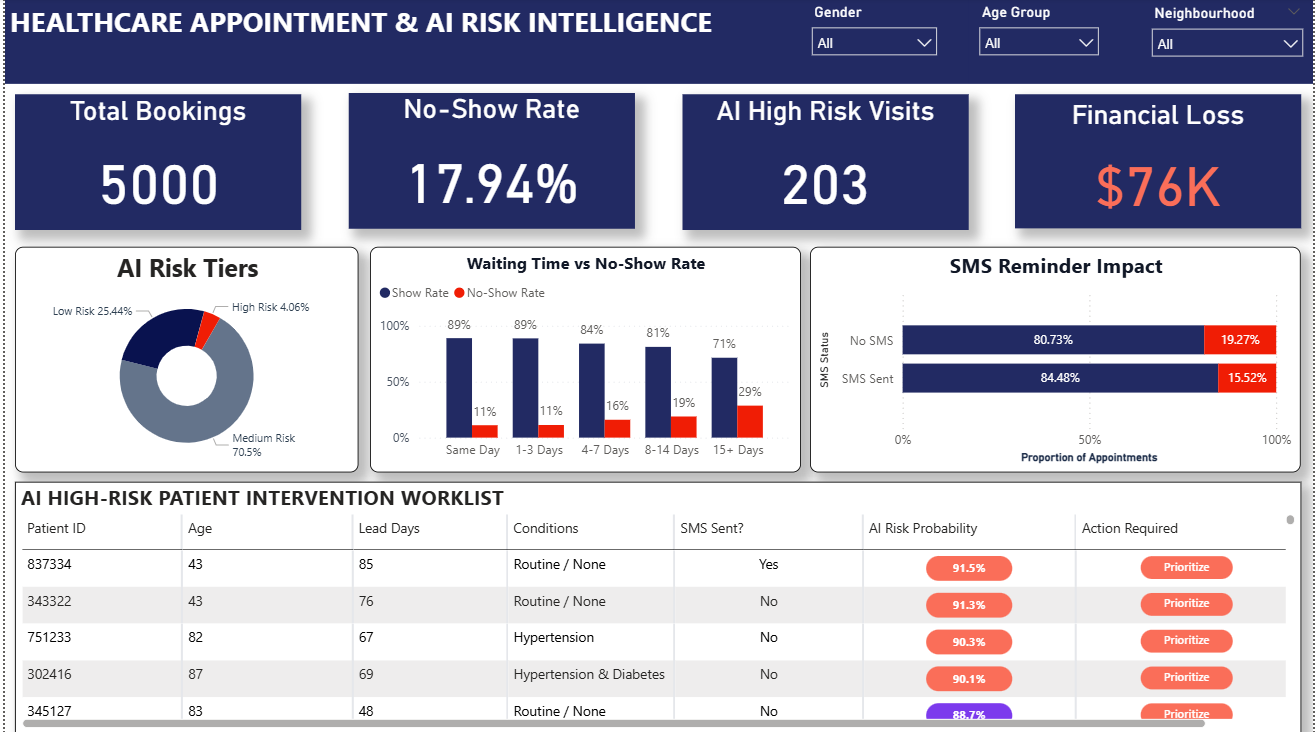

The page's visual inventory and layout, read from the dashboard file:
{"tool":"powerbi","page":{"name":"Page 1","canvas":[1280,720],"ordinal":0},"visuals":[{"type":"card","title":"Total Bookings","fields":{"Values":["appointments_with_ai_predictions.Total Appointments"]},"box":[10,94.3,280,132.9],"z":0},{"type":"card","title":"No-Show Rate","fields":{"Values":["appointments_with_ai_predictions.No-Show Rate"]},"box":[336.2,93.3,279.9,133.1],"z":1000},{"type":"card","title":"AI High Risk Visits","fields":{"Values":["appointments_with_ai_predictions.High Risk Visits"]},"box":[662.4,94.3,280,132.9],"z":2000},{"type":"card","title":"Financial Loss","fields":{"Values":["appointments_with_ai_predictions.Financial Loss"]},"box":[988.6,94.3,280,131.4],"z":3000},{"type":"donutChart","title":"AI Risk Tiers","fields":{"Category":["appointments_with_ai_predictions.Corrected_Risk_Tier"],"Y":["appointments_with_ai_predictions.Total Appointments"]},"box":[9.6,242.9,336.2,220.9],"z":4000},{"type":"clusteredColumnChart","title":"Waiting Time vs No-Show Rate","fields":{"Category":["appointments_with_ai_predictions.Waiting Time Bucket"],"Y":["appointments_with_ai_predictions.Show Rate","appointments_with_ai_predictions.No-Show Rate"]},"box":[356.8,242.9,421.3,220.9],"z":5000},{"type":"hundredPercentStackedBarChart","title":"SMS Reminder Impact","fields":{"Category":["appointments_with_ai_predictions.SMS_Label"],"Y":["appointments_with_ai_predictions.Total Appointments"],"Series":["appointments_with_ai_predictions.no_show"]},"box":[787.7,242.9,480.3,220.9],"z":6000},{"type":"tableEx","title":"AI HIGH-RISK PATIENT INTERVENTION WORKLIST","fields":{"Values":["appointments_with_ai_predictions.patient_id","appointments_with_ai_predictions.age","appointments_with_ai_predictions.lead_days","appointments_with_ai_predictions.Conditions","appointments_with_ai_predictions.SMS Sent?","appointments_with_ai_predictions.AI Risk Badge","appointments_with_ai_predictions.Action Required Badge","appointments_with_ai_predictions.predicted_risk_prob"]},"box":[9.8,473.2,1258.3,247],"z":7000},{"type":"textbox","box":[0,0,1280,84.3],"z":8000},{"type":"slicer","fields":{"Values":["appointments_with_ai_predictions.gender"]},"box":[778.6,0,142.9,82.9],"z":9000},{"type":"slicer","fields":{"Values":["appointments_with_ai_predictions.age_group"]},"box":[942.9,0,137.1,82.9],"z":10000},{"type":"slicer","fields":{"Values":["appointments_with_ai_predictions.neighbourhood"]},"box":[1111.4,1.4,168.6,82.9],"z":11000}]}

Visuals, with their boxes in screenshot pixels (x1, y1, x2, y2), scaled from the page's 1280x720 canvas onto the 1315x732 screenshot:
"Total Bookings" card: box=[10, 96, 298, 231]
"No-Show Rate" card: box=[345, 95, 633, 230]
"AI High Risk Visits" card: box=[681, 96, 968, 231]
"Financial Loss" card: box=[1016, 96, 1303, 229]
"AI Risk Tiers" donutChart: box=[10, 247, 355, 472]
"Waiting Time vs No-Show Rate" clusteredColumnChart: box=[367, 247, 799, 472]
"SMS Reminder Impact" hundredPercentStackedBarChart: box=[809, 247, 1303, 472]
"AI HIGH-RISK PATIENT INTERVENTION WORKLIST" tableEx: box=[10, 481, 1303, 731]
textbox: box=[0, 0, 1314, 86]
slicer - appointments_with_ai_predictions.gender: box=[800, 0, 947, 84]
slicer - appointments_with_ai_predictions.age_group: box=[969, 0, 1110, 84]
slicer - appointments_with_ai_predictions.neighbourhood: box=[1142, 1, 1314, 86]
